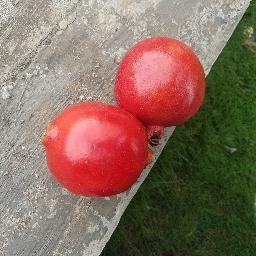Good_pomegranate: (45, 101, 159, 199), (121, 35, 208, 142)
